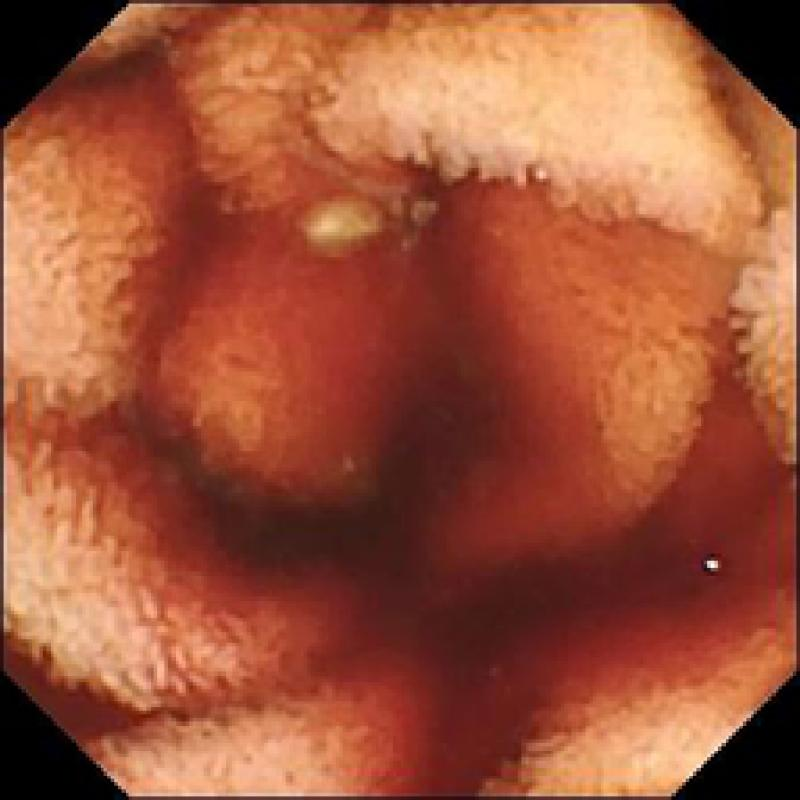bleeding: (32, 78, 779, 793)
